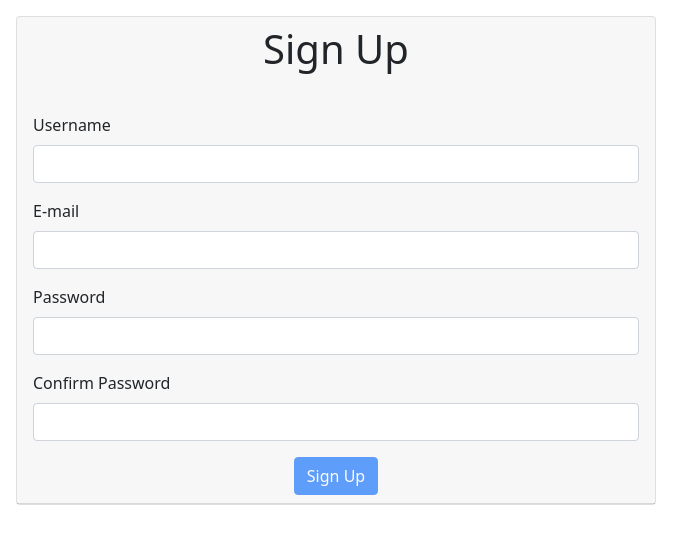
Sign Up Page › Interactions › displays the Password cannot be null message for the field password
Type "user1" into the field labelled "Username". click: (336, 164)
box: [33,145,639,183]
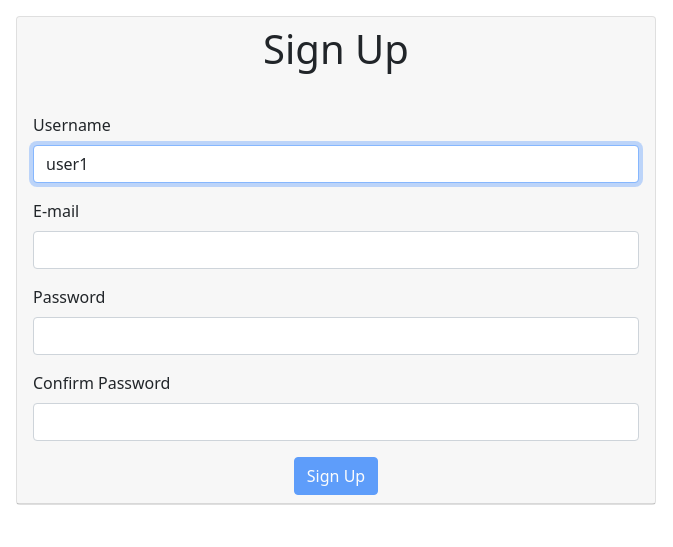
Type "user1@mail.com" into the field labelled "E-mail". click: (336, 250)
box: [33,231,639,269]
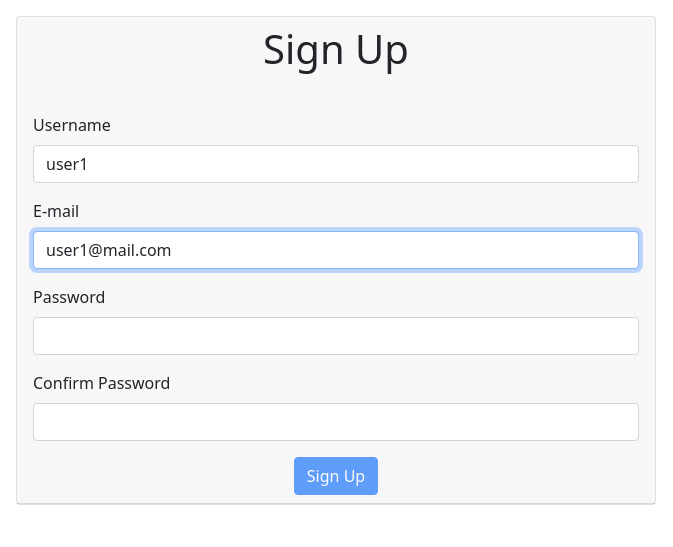
Type "P4ssword" into the password field labelled "Password". click: (336, 336)
box: [33,317,639,355]
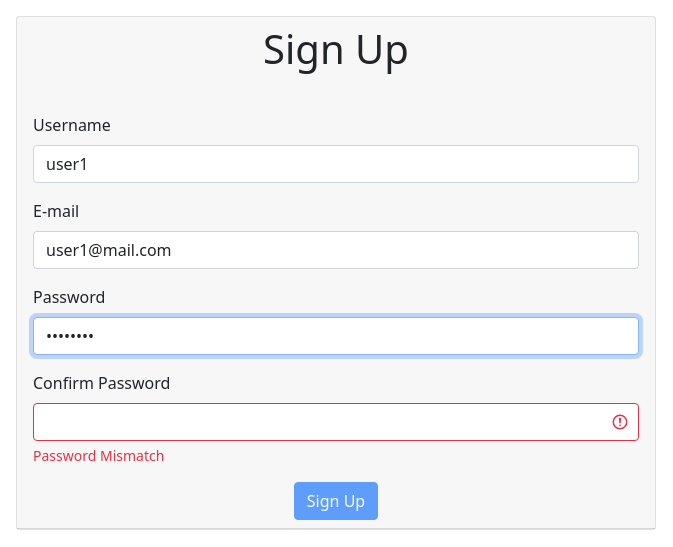
Type "P4ssword" into the password field labelled "Confirm Password". click: (336, 422)
box: [33,403,639,441]
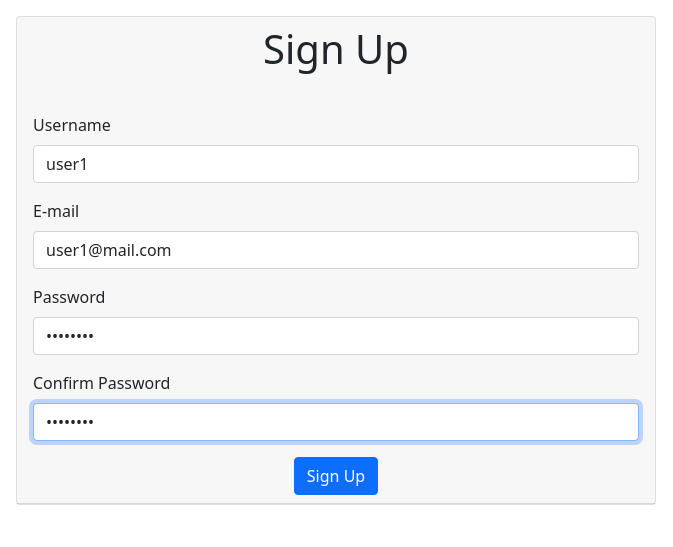
Click the button "Sign Up". click: (336, 476)
box: [294,457,378,495]
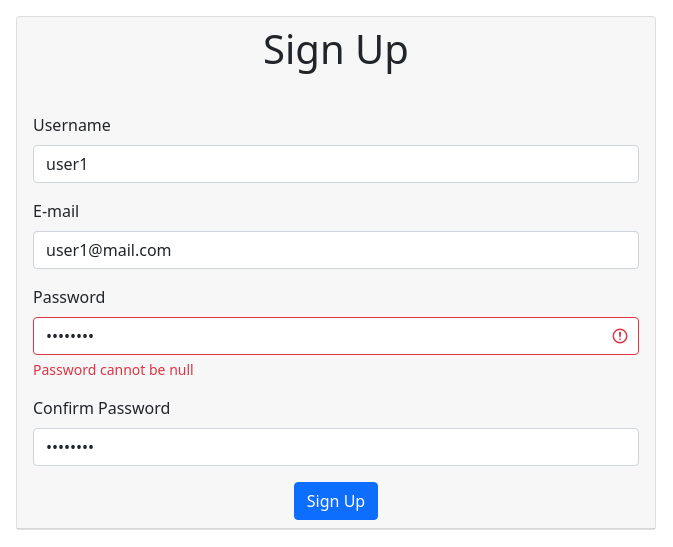
Expected: the text "Password cannot be null" is shown, [33,360,194,379]
